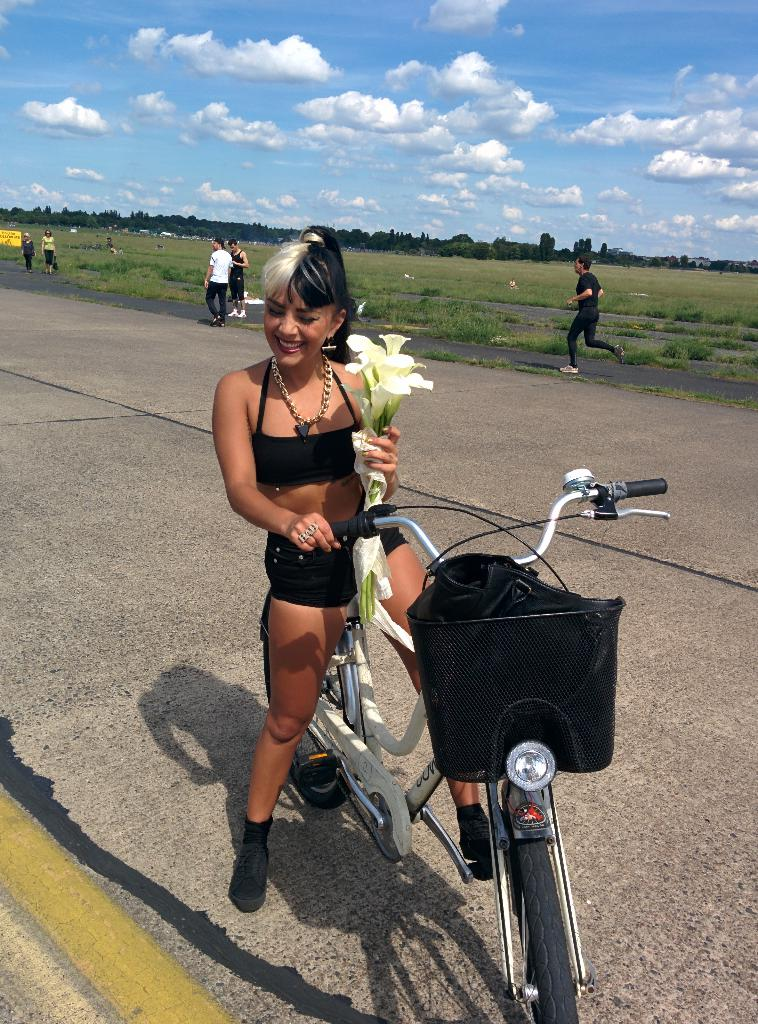bicycle: (256, 458, 670, 1021)
